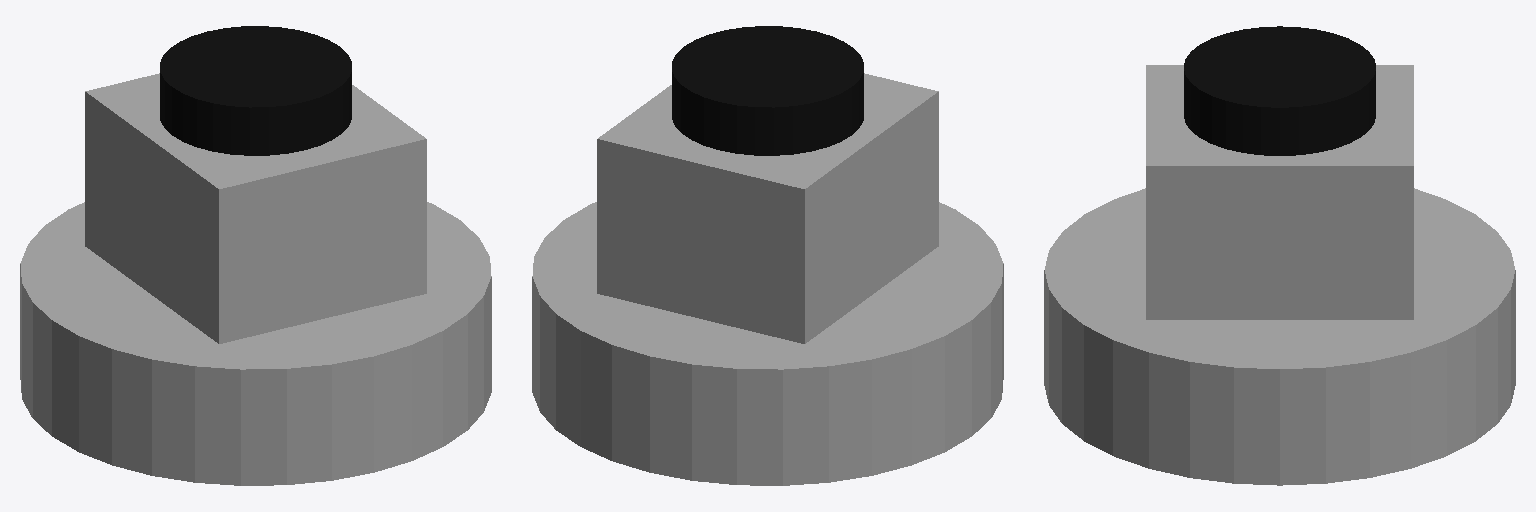
robot.urdf — evolved_robot:
<?xml version="1.0"?>
<robot name="evolved_robot">
  <material name="metal">
    <color rgba="0.7 0.7 0.7 1.0"/>
  </material>
  <material name="plastic">
    <color rgba="0.3 0.3 0.9 1.0"/>
  </material>
  <material name="rubber">
    <color rgba="0.1 0.1 0.1 1.0"/>
  </material>
  <material name="red">
    <color rgba="1.0 0.0 0.0 1.0"/>
  </material>
  <material name="wheel_material">
    <color rgba="0.2 0.2 0.2 1.0"/>
  </material>
  <link name="base_link">
    <visual>
      <geometry><cylinder radius="0.2015375313686143" length="0.10965485293996191"/></geometry>
      <material name="metal"/>
    </visual>
    <collision>
      <geometry><cylinder radius="0.2015375313686143" length="0.10965485293996191"/></geometry>
    </collision>
    <inertial>
      <mass value="5.0"/>
      <inertia ixx="0.11156359701979186" ixy="0" ixz="0" 
               iyy="0.11156359701979186" iyz="0" 
               izz="0.20308688275077594"/>
    </inertial>
  </link>
  <link name="link1">
    <visual>
      <geometry><box size="0.14300869500315572 0.08661028060162165 0.05402501841348908"/></geometry>
      <material name="rubber"/>
    </visual>
    <collision>
      <geometry><box size="0.14300869500315572 0.08661028060162165 0.05402501841348908"/></geometry>
    </collision>
    <inertial>
      <mass value="0.5"/>
      <inertia ixx="0.0008683369433724562" ixy="0" ixz="0" 
               iyy="0.0019475157884236208" iyz="0" 
               izz="0.0023294022960331042"/>
    </inertial>
  </link>
  <joint name="joint1" type="fixed">
    <parent link="base_link"/>
    <child link="link1"/>
    <origin xyz="0 0 0.054827426469980955" rpy="0 0 0"/>
    <axis xyz="-0.5360109014980572 0.8436318364723533 0.031267202713463664"/>
    <dynamics damping="0.1029057953056492" friction="0.1"/>
  </joint>
  <link name="link2">
    <visual>
      <geometry><box size="0.20462174089061386 0.22877229965037643 0.19182219904361414"/></geometry>
      <material name="metal"/>
    </visual>
    <collision>
      <geometry><box size="0.20462174089061386 0.22877229965037643 0.19182219904361414"/></geometry>
    </collision>
    <inertial>
      <mass value="0.5"/>
      <inertia ixx="0.007427710094437462" ixy="0" ixz="0" 
               iyy="0.0065554844075861205" iyz="0" 
               izz="0.007850568494368928"/>
    </inertial>
  </link>
  <joint name="joint2" type="floating">
    <parent link="base_link"/>
    <child link="link2"/>
    <origin xyz="0 0 0.10482742646998096" rpy="0 0 0"/>
    <axis xyz="-0.7956639677660139 0.34601387757606467 -0.4971853245255933"/>
    <dynamics damping="0.13317693757816318" friction="0.1"/>
  </joint>
  <link name="link3">
    <visual>
      <geometry><cylinder radius="0.08250382730163829" length="0.18297875091889787"/></geometry>
      <material name="rubber"/>
    </visual>
    <collision>
      <geometry><cylinder radius="0.08250382730163829" length="0.18297875091889787"/></geometry>
    </collision>
    <inertial>
      <mass value="0.5"/>
      <inertia ixx="0.004491822320507978" ixy="0" ixz="0" 
               iyy="0.004491822320507978" iyz="0" 
               izz="0.0034034407597092775"/>
    </inertial>
  </link>
  <joint name="joint3" type="floating">
    <parent link="base_link"/>
    <child link="link3"/>
    <origin xyz="0 0 0.15482742646998096" rpy="0 0 0"/>
    <axis xyz="0.038120554180783854 0.995864478770266 0.08246674040227502"/>
    <dynamics damping="0.6136062229199455" friction="0.1"/>
  </joint>
</robot>

--- Render facts (derived) ---
Views: 3 orthographic renders of the robot side by side, from view 1: azimuth 30°, elevation 25°; view 2: azimuth 150°, elevation 25°; view 3: azimuth 270°, elevation 25°.
Model evolved_robot with 4 links and 3 joints (1 fixed, 2 floating), rooted at base_link, posed every joint at zero.
Visible links, largest first — view 1: base_link, link2, link3; view 2: base_link, link2, link3; view 3: base_link, link2, link3.
Boxes of the visible links, x1,y1,x2,y2 form: base_link: [20, 202, 491, 485]; link2: [85, 73, 426, 343]; link3: [160, 26, 351, 155]; base_link: [532, 202, 1003, 485]; link2: [597, 73, 938, 343]; link3: [672, 26, 863, 155]; base_link: [1044, 188, 1515, 485]; link2: [1146, 65, 1413, 319]; link3: [1184, 26, 1375, 155].
Bounding box of the posed robot: 0.4031 × 0.4031 × 0.3011 m (x, y, z).
Geometry: primitives only (box / cylinder / sphere), no mesh files.